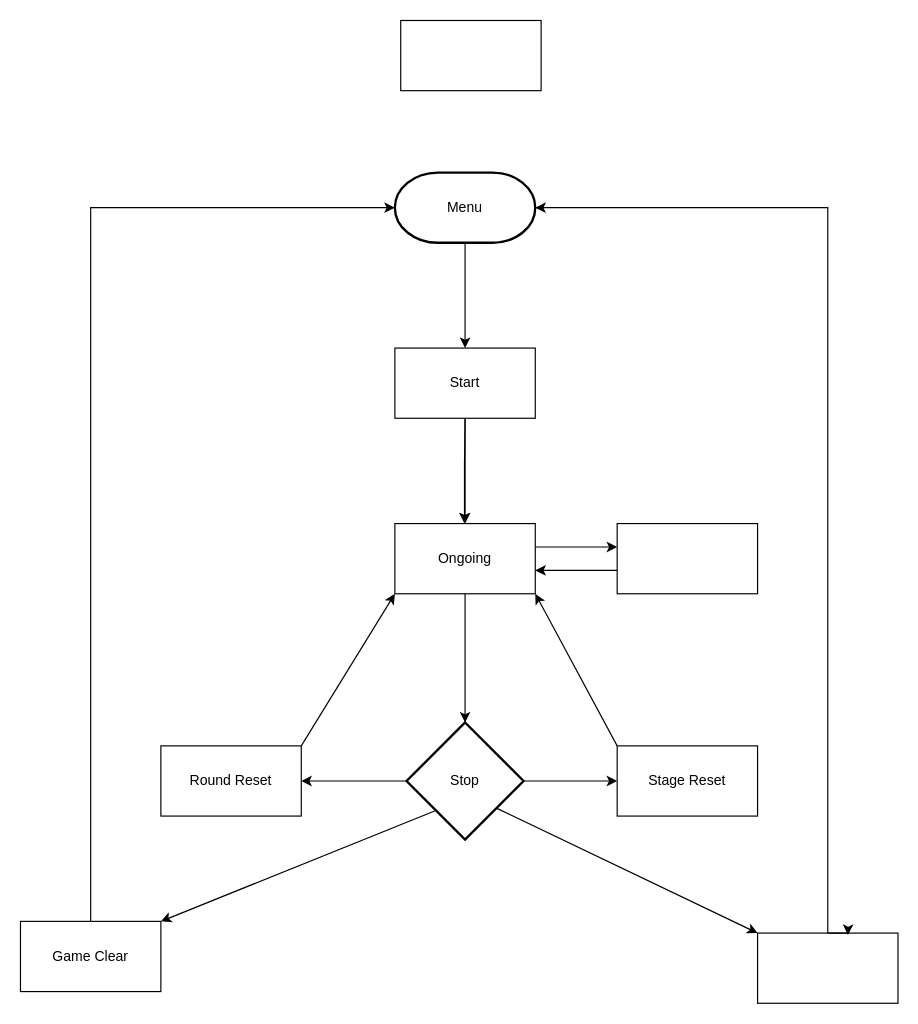
The diagram is 918 pixels wide and 1024 high, and some of its shapes have lost their labels. Here are the shapes that lost their labels. From the top down, the box of each, then its label:
(400, 19, 541, 91): Default
(616, 522, 758, 594): Switch Turns
(756, 932, 898, 1003): Game Over
